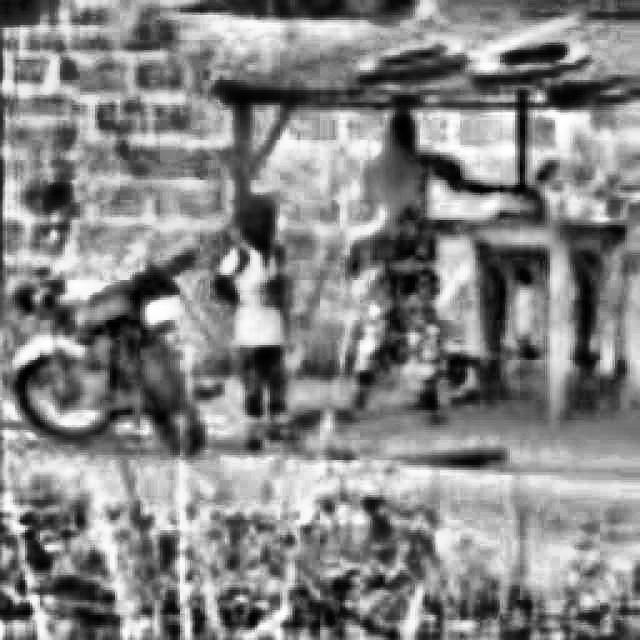motorcycle: (0, 188, 211, 480)
